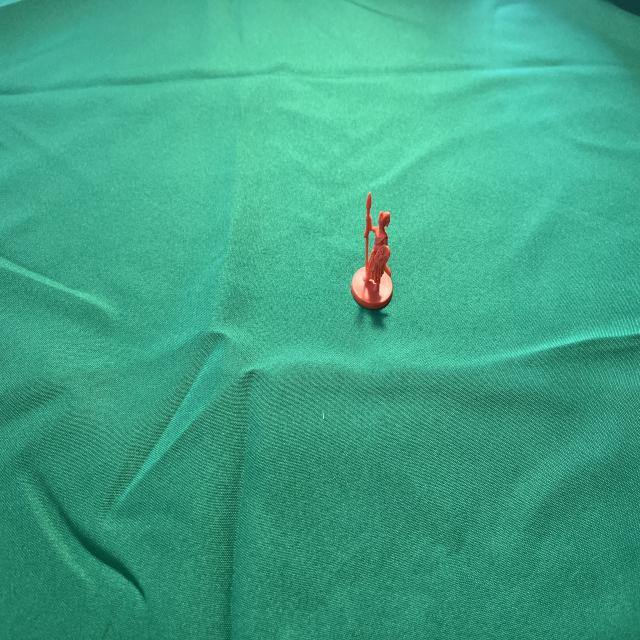amon_follower: (351, 193, 392, 308)
